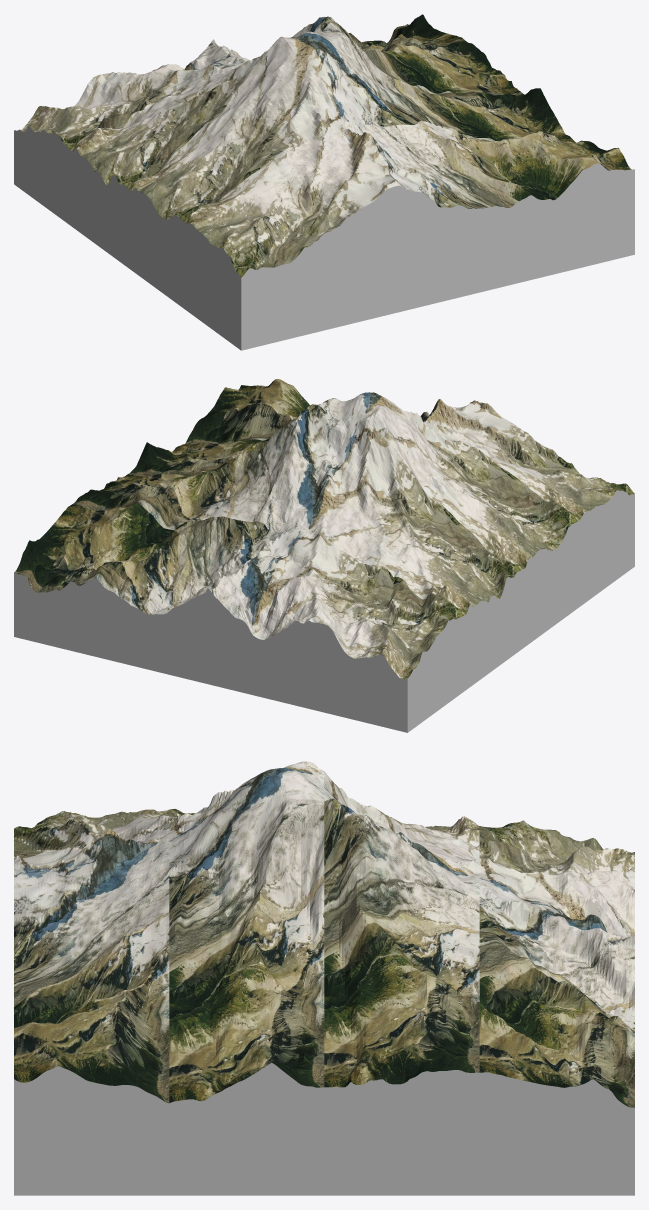
Rendered from mtrainier.gltf.
3 views of the same model, one above another, from view 1: azimuth 30°, elevation 25°; view 2: azimuth 150°, elevation 25°; view 3: azimuth 270°, elevation 25° (orthographic). The views are drawn at different scales.
Bounding box in the file's own units: 1.34 × 0.6576 × 1.34.
